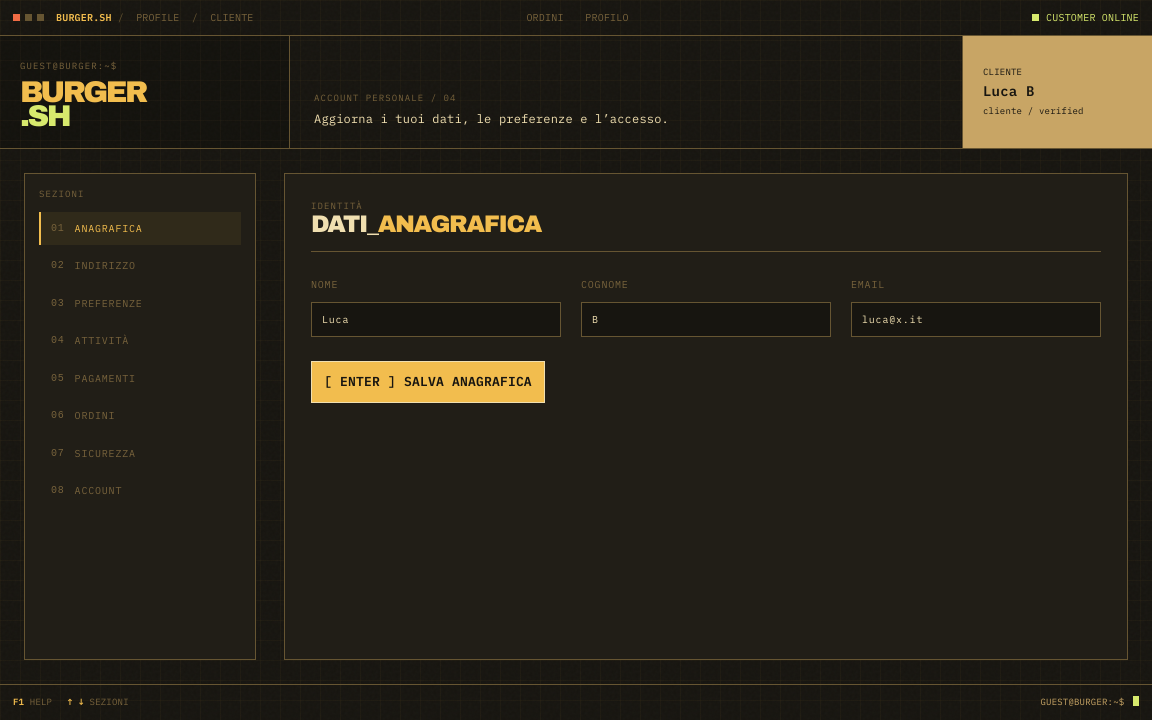
it: ProfilePage › il pulsante di uscita resta nel pannello account
Expected: the button "esci" is not shown
Click the tab "08 account": [140, 491] box [39,474,241,508]
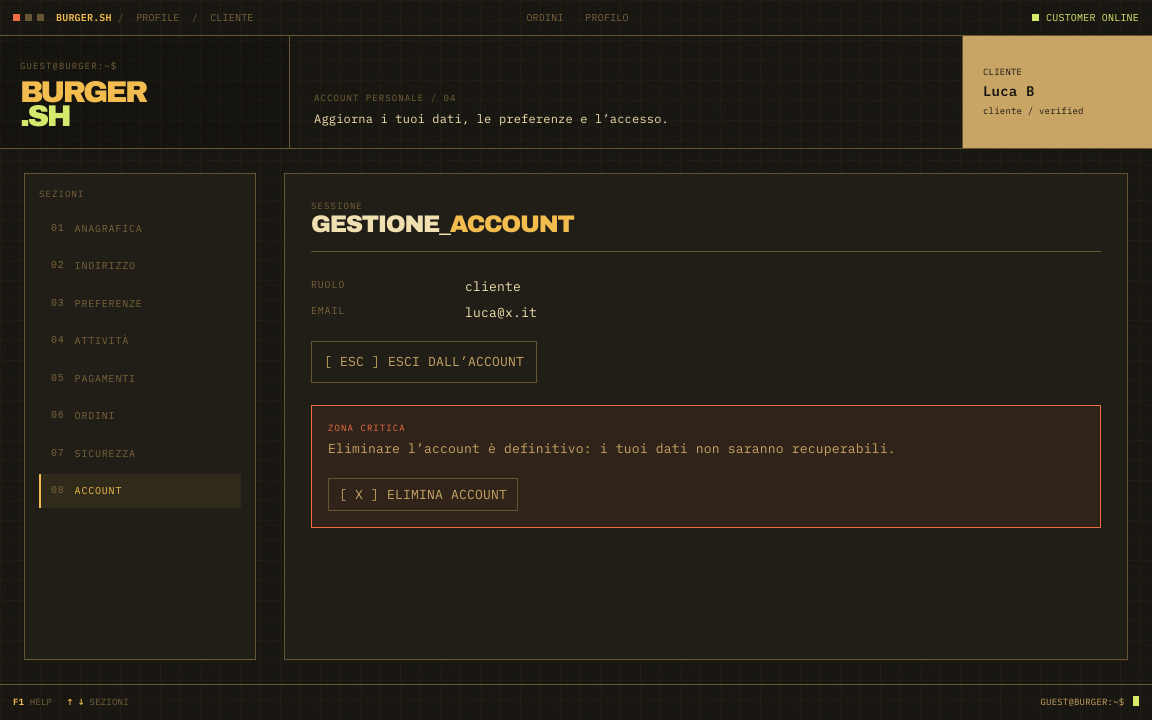
Expected: the button "[ esc ] esci dall’account" is shown, [311,341,537,383]
